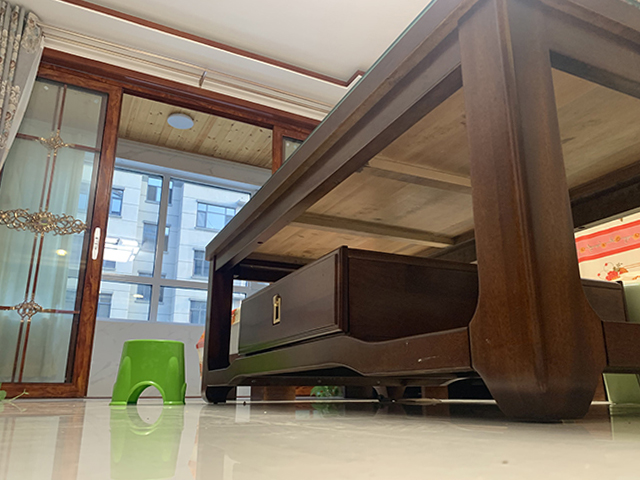stool: (106, 338, 188, 406)
table: (200, 1, 640, 422)
